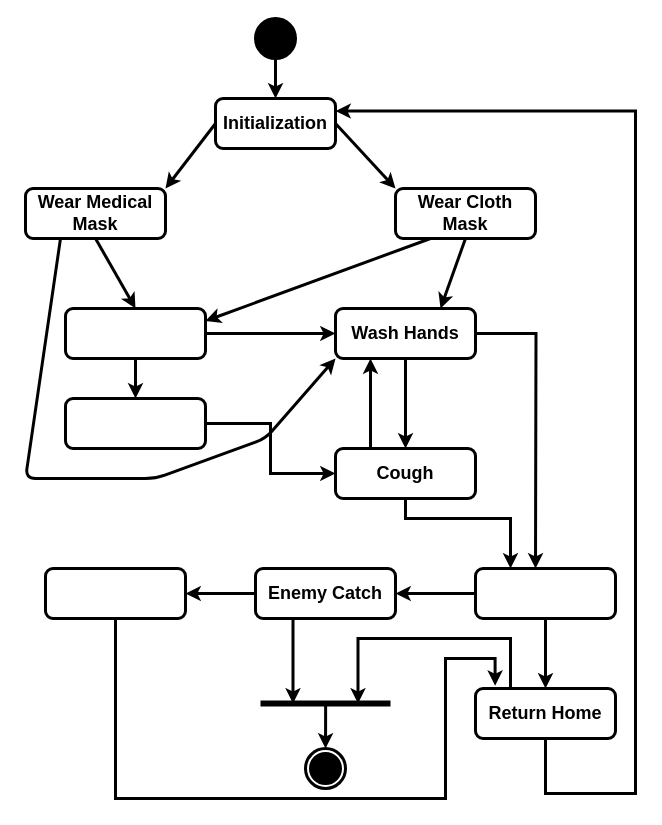
The diagram is 662 pixels wide and 825 high, and some of its shapes have lost their labels. The box of each missing label's shape, as (x1, y1, x2, y2) in pixels:
Eat: (64, 306, 206, 360)
Go Out in City: (474, 566, 616, 620)
Seek for Care: (44, 566, 186, 620)
Use Tissue: (64, 396, 206, 450)
